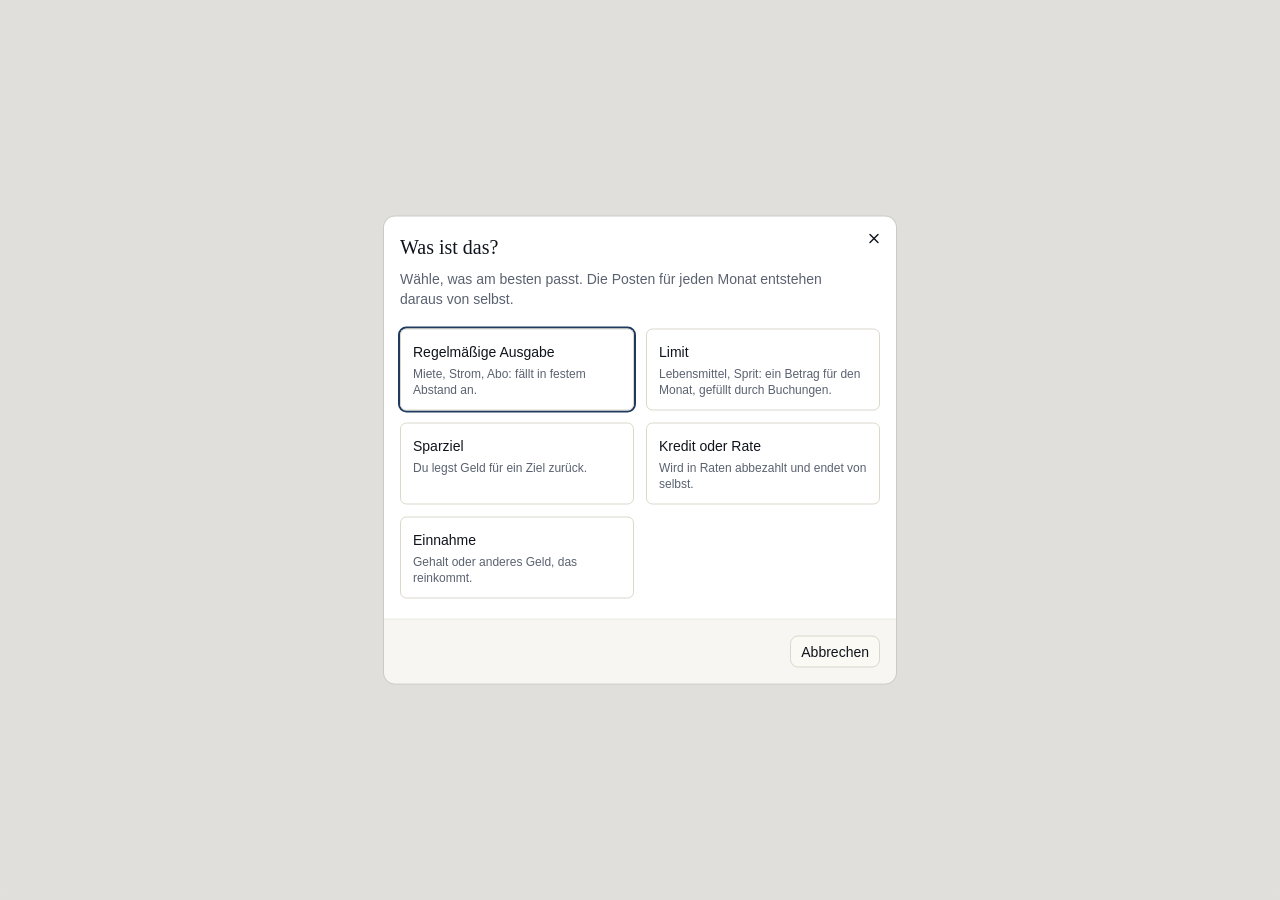
Test: CommitmentDialog › a savings goal names the target account and target date in its sentence
The image size is (1280, 900).
Click the button "Sparziel Du legst Geld für ein Ziel zurück.": [517, 464] box [400,422,634,504]
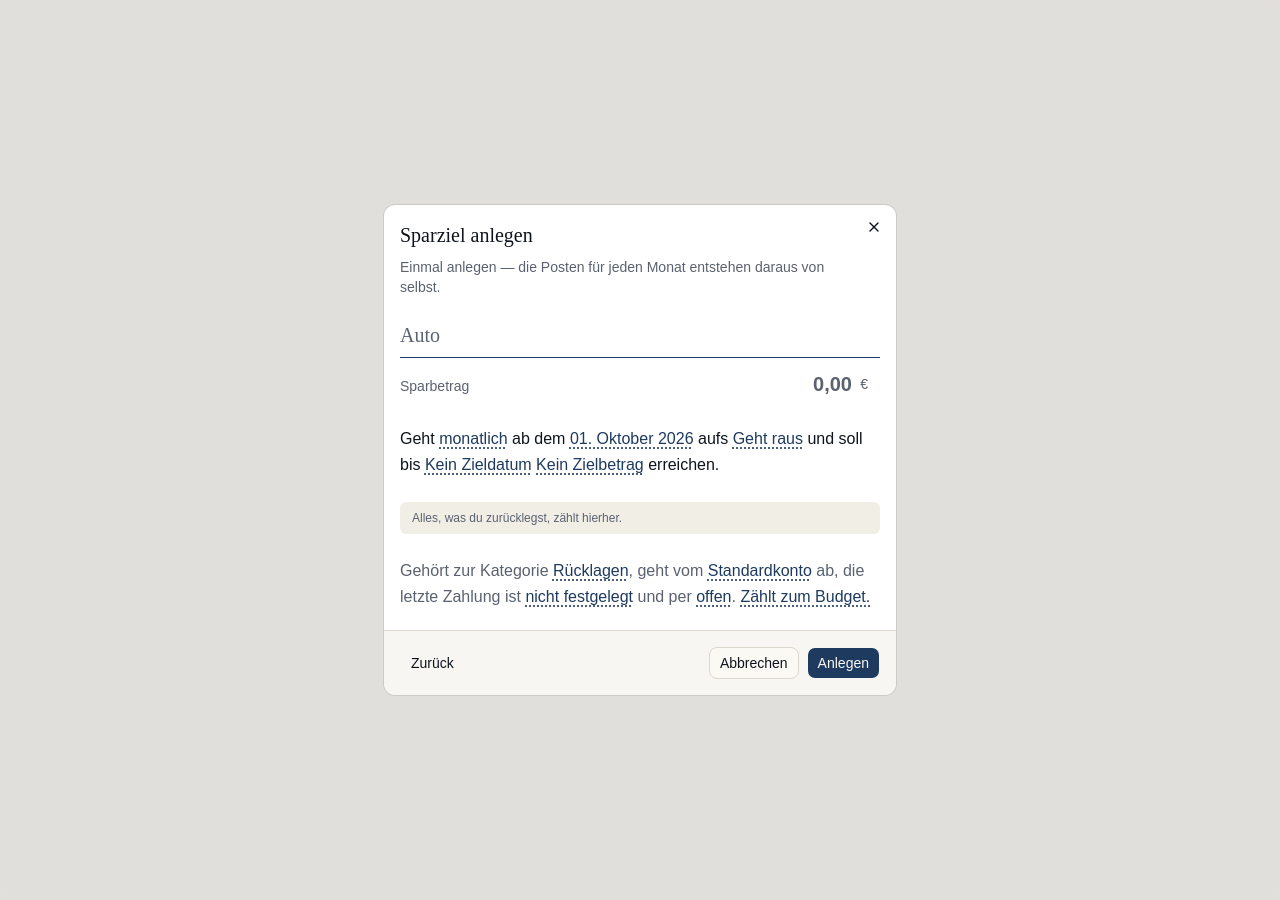
Check: the button "Geht raus" is shown, box [731,426,805,452]
Check: the button "Kein Zieldatum" is shown, box [423,452,534,478]
Check: the button "Kein Zielbetrag" is shown, box [534,452,646,478]
